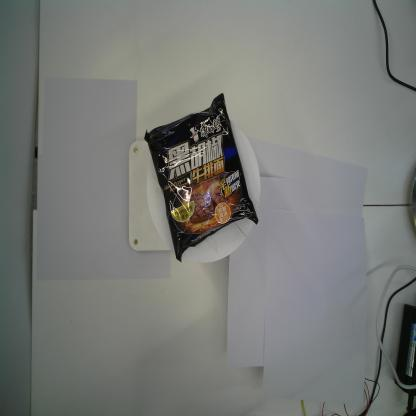Instant Noodles: (143, 92, 259, 265)
